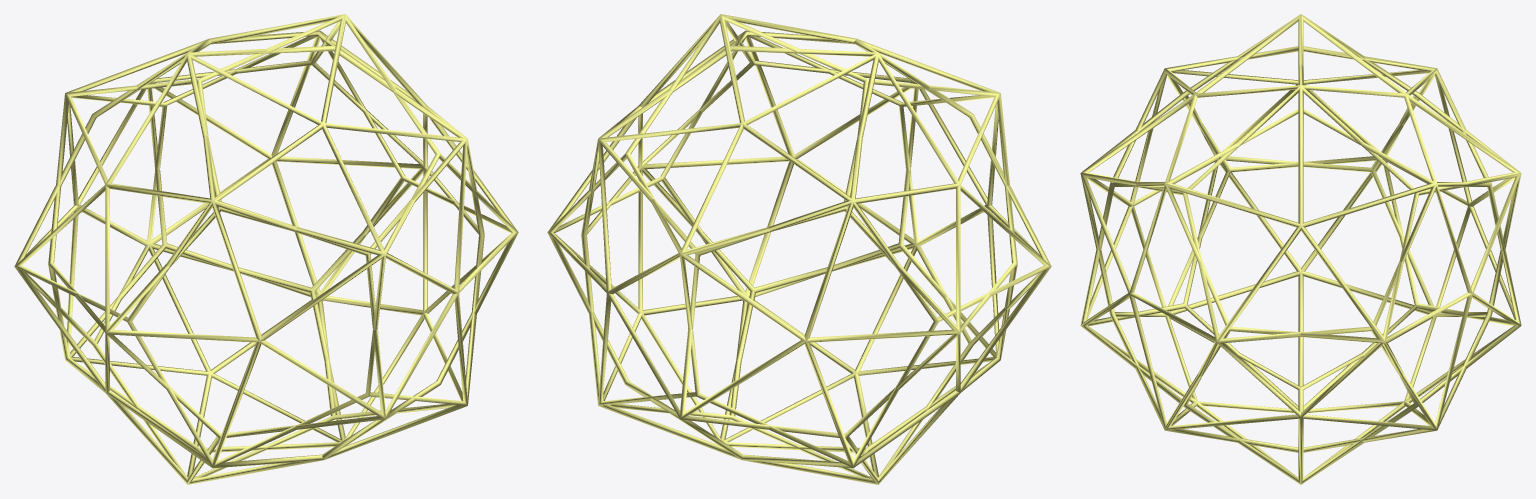
The model's file is SmallIcosacronicHexecontahedron1.glb.
The picture shows the model from 3 angles, left to right: view 1: azimuth 30°, elevation 25°; view 2: azimuth 150°, elevation 25°; view 3: azimuth 270°, elevation 25°; orthographic projection. The views are drawn at different scales.
Parts seen in each view (by area): view 1: SmallIcosacronicHexecontahedron; view 2: SmallIcosacronicHexecontahedron; view 3: SmallIcosacronicHexecontahedron.
Part boxes in pixels (box(x1,y1,x2,y2)): SmallIcosacronicHexecontahedron: box(14, 14, 518, 484); SmallIcosacronicHexecontahedron: box(547, 14, 1051, 484); SmallIcosacronicHexecontahedron: box(1080, 14, 1521, 484).
Size of the model in its own units: 3.66 by 3.66 by 3.66.
